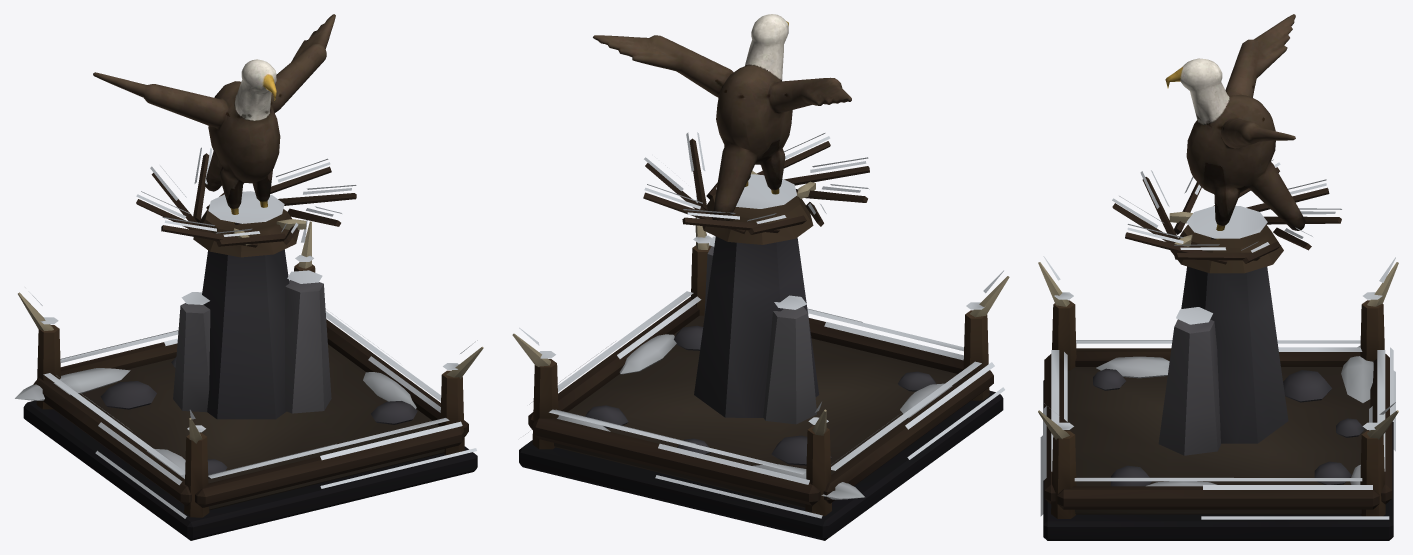
File: horde-4.glb
The picture shows the model from 3 angles, left to right: view 1: azimuth 30°, elevation 25°; view 2: azimuth 150°, elevation 25°; view 3: azimuth 270°, elevation 25°; orthographic projection. The views are drawn at different scales.
Parts seen in each view (by area): view 1: orage_4_architecture, orage_4_aigle; view 2: orage_4_architecture, orage_4_aigle; view 3: orage_4_architecture, orage_4_aigle.
Part boxes in pixels (x1,y1,x2,y2): orage_4_architecture: [15, 147, 483, 540]; orage_4_aigle: [93, 14, 335, 224]; orage_4_architecture: [512, 132, 1009, 540]; orage_4_aigle: [593, 14, 851, 220]; orage_4_architecture: [1038, 159, 1398, 540]; orage_4_aigle: [1165, 14, 1305, 239].
Bounding box in the file's own units: 0.8655 × 1.03 × 0.8237.
Materials: 3 (1 with a texture image).
